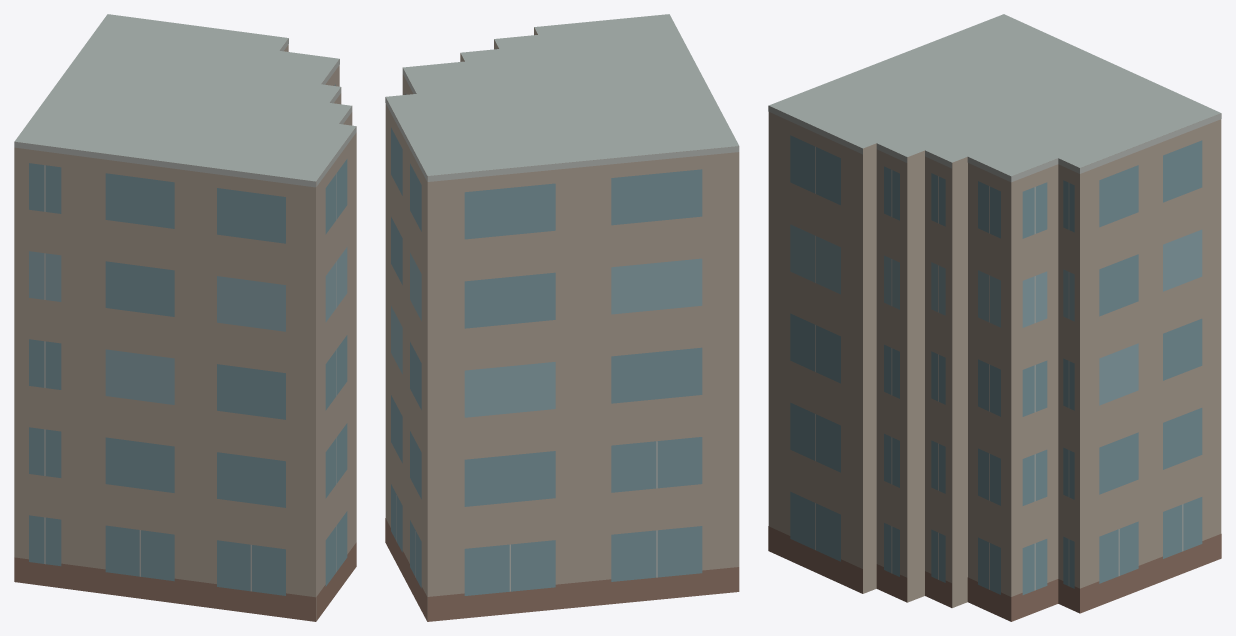
Rendered from survey-upis-32663674.glb.
3 renders of one model, left to right at view 1: azimuth 30°, elevation 25°; view 2: azimuth 150°, elevation 25°; view 3: azimuth 270°, elevation 25°, orthographic.
Visible parts, largest first — view 1: survey-upis-32663674.tmp; view 2: survey-upis-32663674.tmp; view 3: survey-upis-32663674.tmp.
Part boxes in pixels (x1,y1,x2,y2): survey-upis-32663674.tmp: (14, 14, 356, 621); survey-upis-32663674.tmp: (385, 14, 739, 621); survey-upis-32663674.tmp: (768, 14, 1221, 621).
Size of the model in its own units: 14.16 by 18.1 by 16.68.
